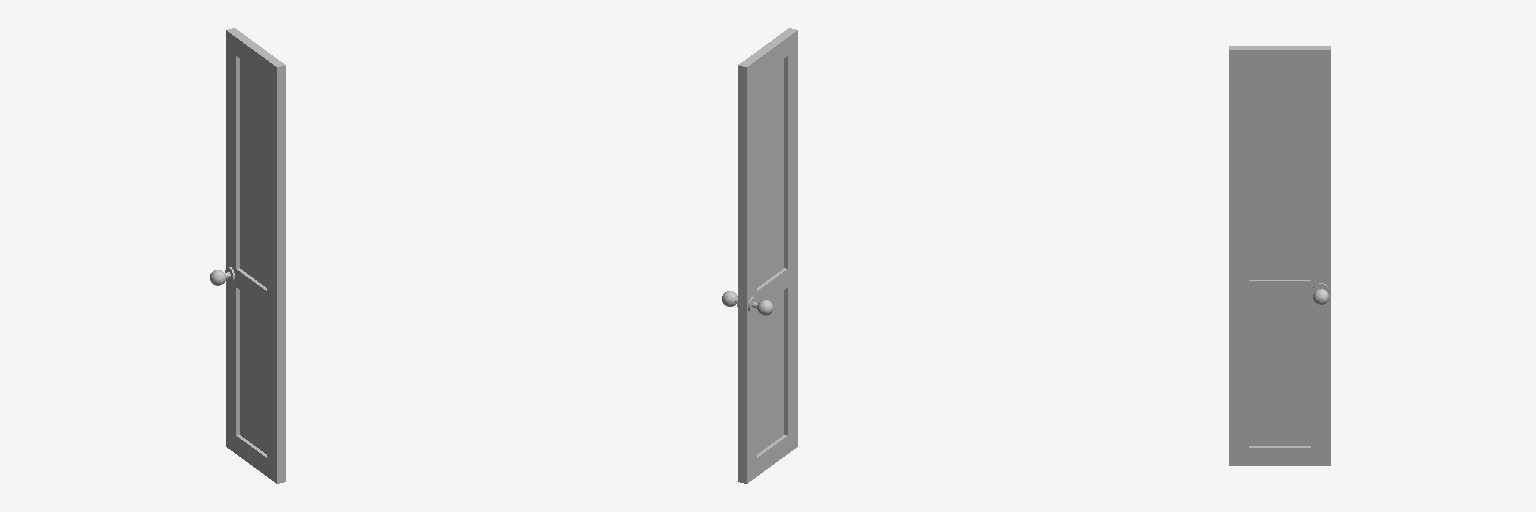
The model's file is doubledoor.obj.
The picture shows the model from 3 angles: view 1: azimuth 30°, elevation 25°; view 2: azimuth 150°, elevation 25°; view 3: azimuth 270°, elevation 25°; orthographic projection.
Parts seen in each view (by area): view 1: Cube, Cube.002; view 2: Cube, Cube.002; view 3: Cube.002, Cube.
Boxes of the visible parts, box(x1,y1,x2,y2) form: Cube: box(210, 28, 285, 483); Cube.002: box(240, 59, 266, 453); Cube: box(722, 28, 797, 483); Cube.002: box(757, 59, 783, 453); Cube.002: box(1249, 68, 1310, 445); Cube: box(1229, 46, 1330, 465).
Bounding box in the file's own units: 0.56 × 4.5 × 1.